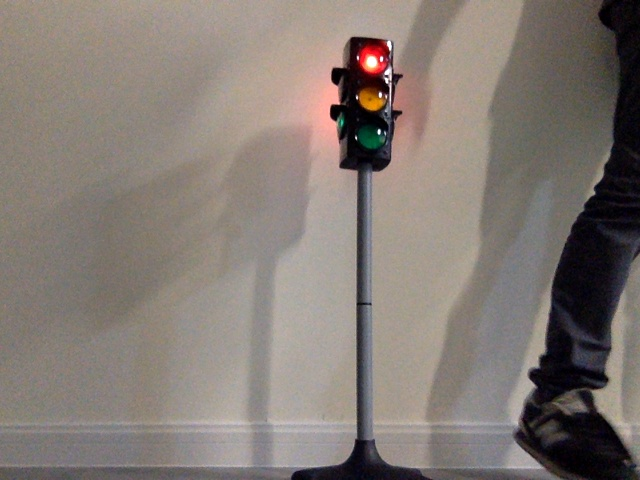red: (347, 41, 386, 155)
